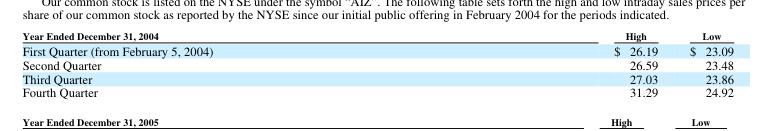table: (21, 28, 733, 100)
table column: (21, 28, 412, 100), (412, 28, 673, 100), (673, 28, 733, 100)
table column header: (21, 28, 733, 42)
table row: (21, 84, 733, 100), (21, 28, 733, 42), (21, 42, 733, 56), (21, 56, 733, 70), (21, 70, 733, 84)
